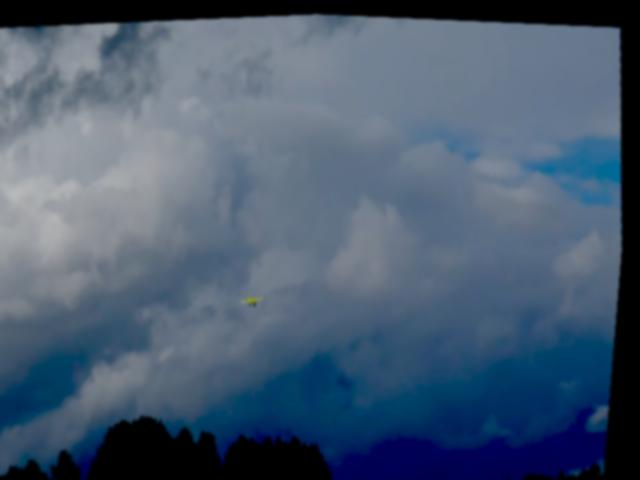plane: (244, 290, 270, 307)
